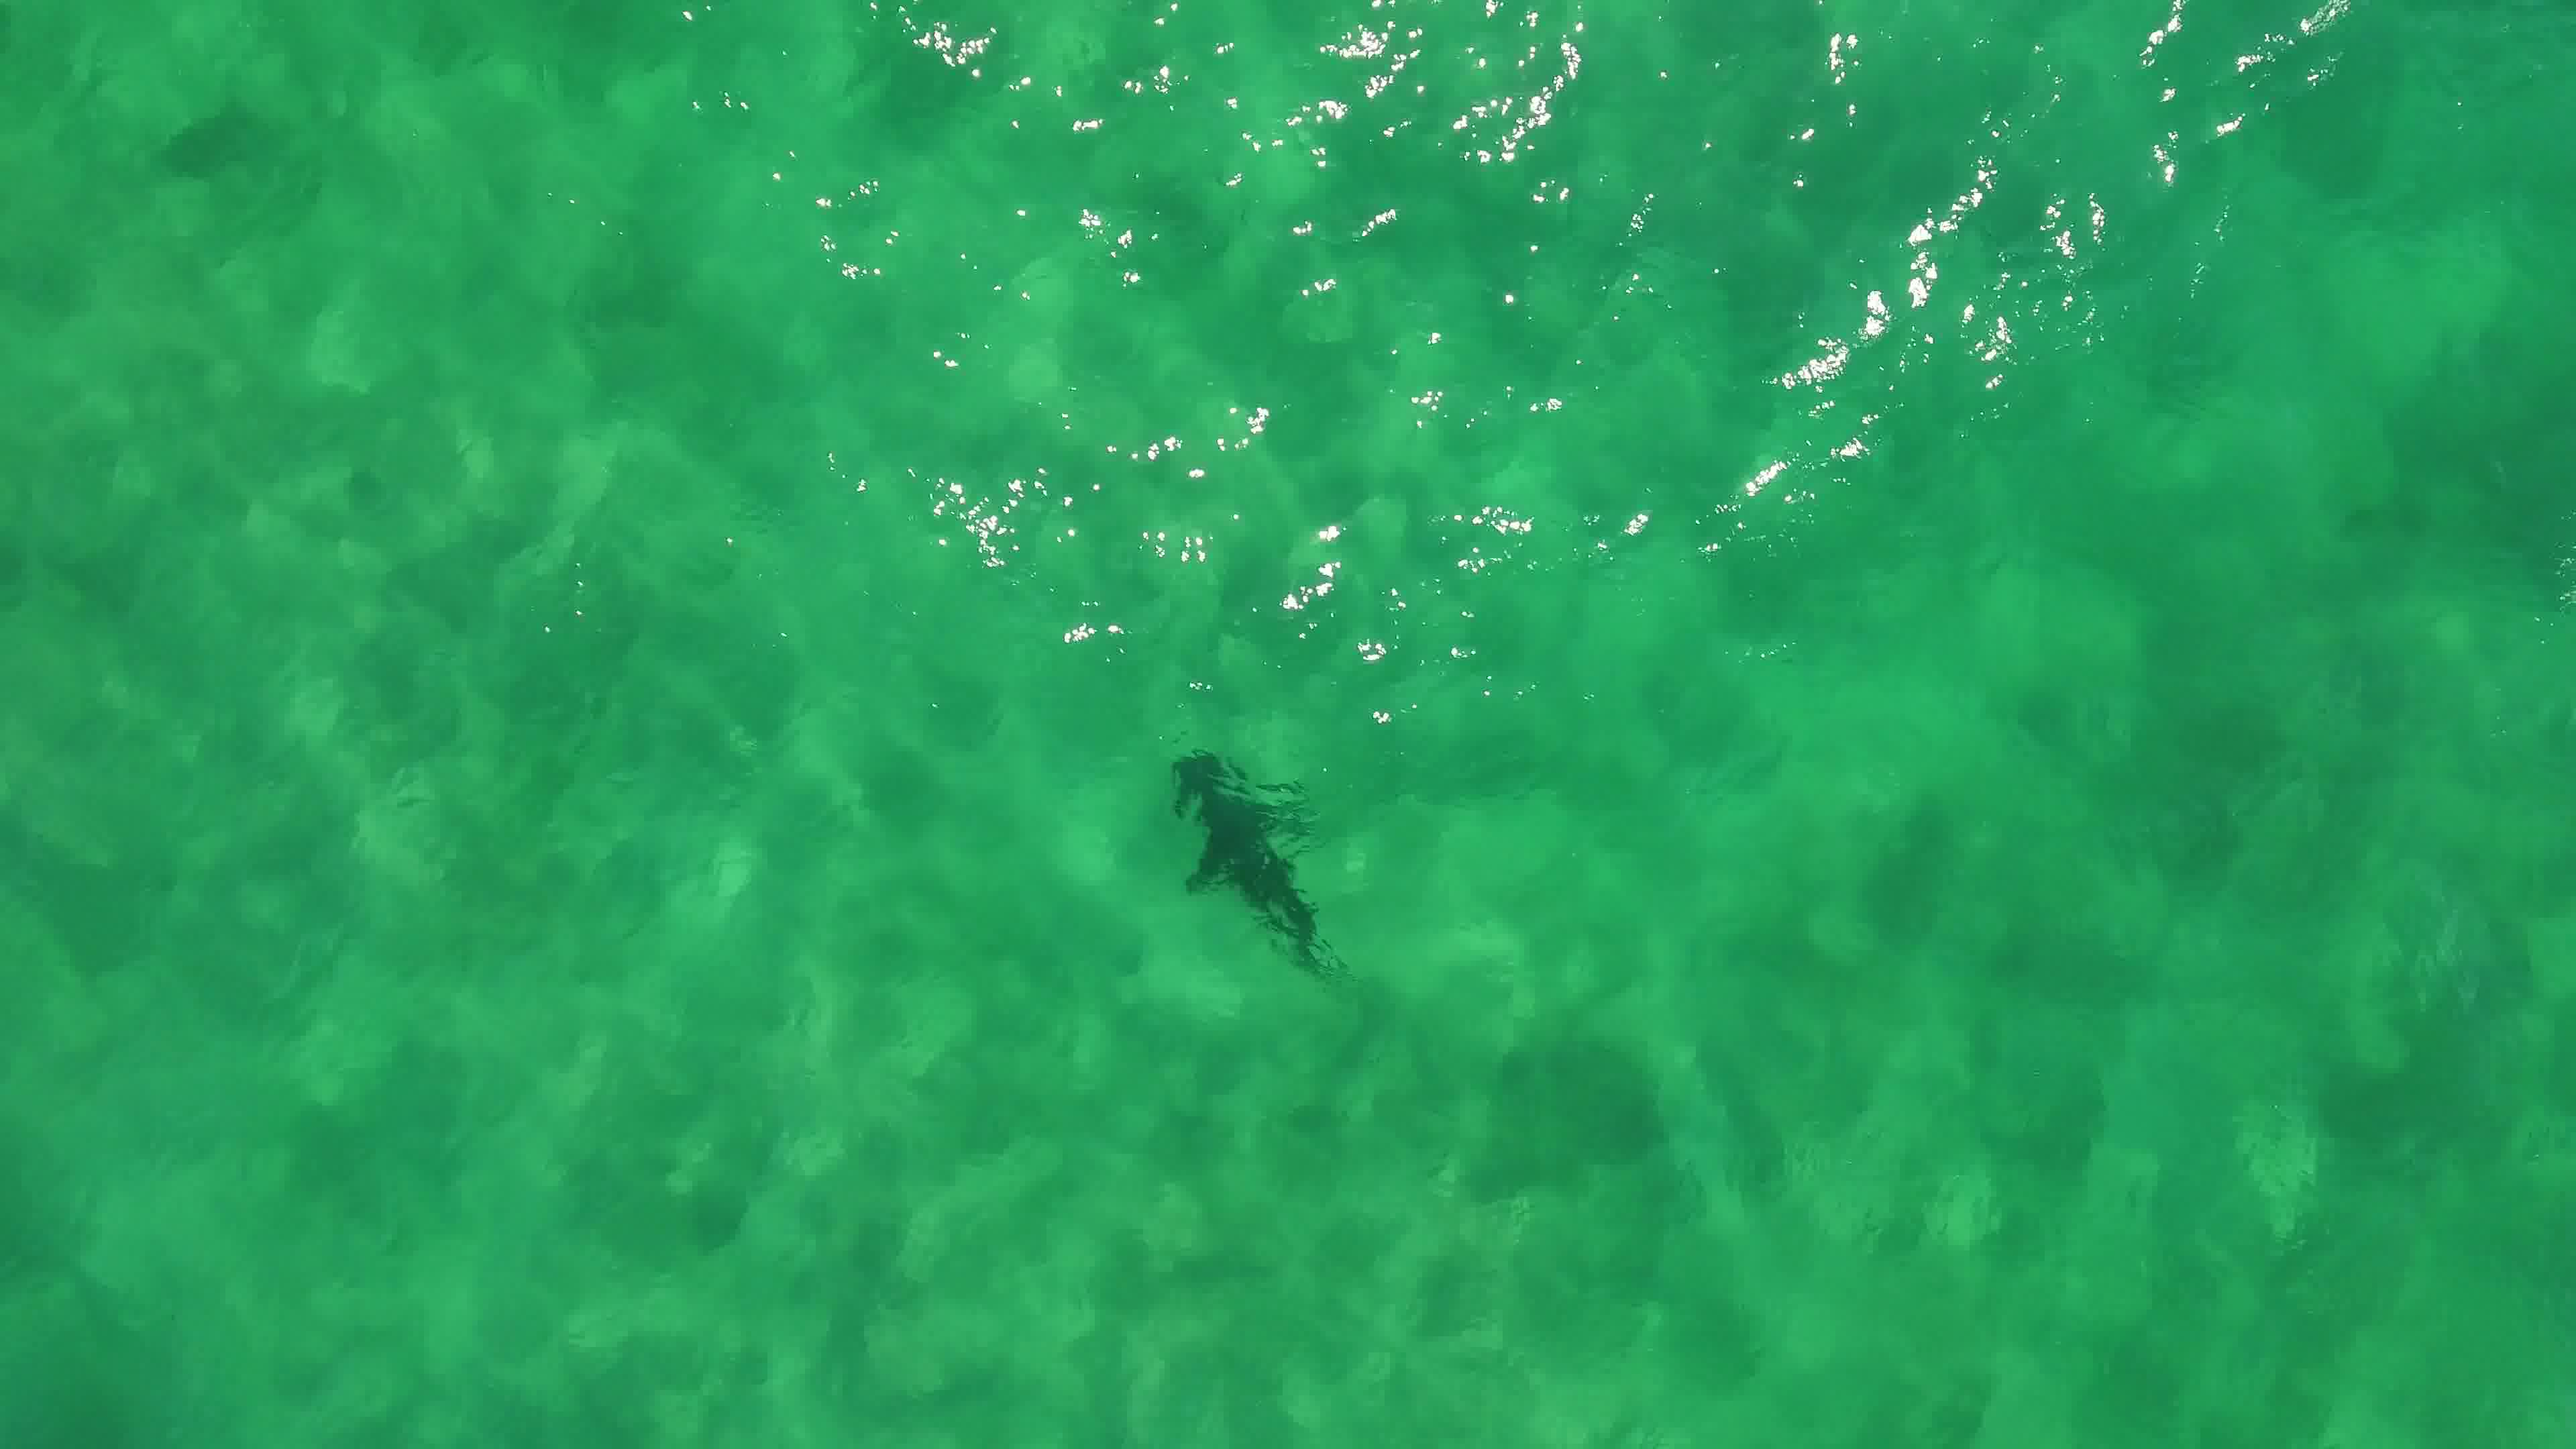shark: (1161, 743, 1341, 975)
